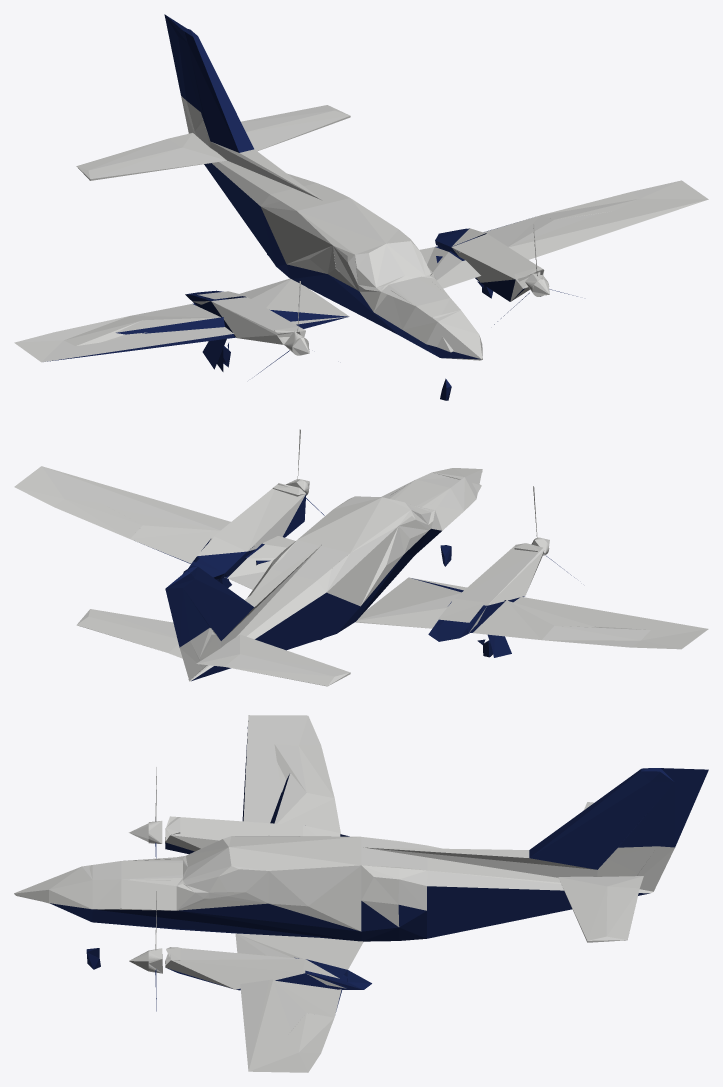
The model's file is cessna-402.livery-v1.lod2.glb.
3 renders of one model, top to bottom at view 1: azimuth 30°, elevation 25°; view 2: azimuth 150°, elevation 25°; view 3: azimuth 270°, elevation 25°, orthographic. The views are drawn at different scales.
Parts seen in each view (by area): view 1: Object_10; view 2: Object_10; view 3: Object_10.
Part boxes in pixels (x1,y1,x2,y2): Object_10: [14, 14, 708, 400]; Object_10: [14, 429, 708, 686]; Object_10: [14, 715, 708, 1072].
Size of the model in its own units: 12.66 by 3.32 by 10.43.
